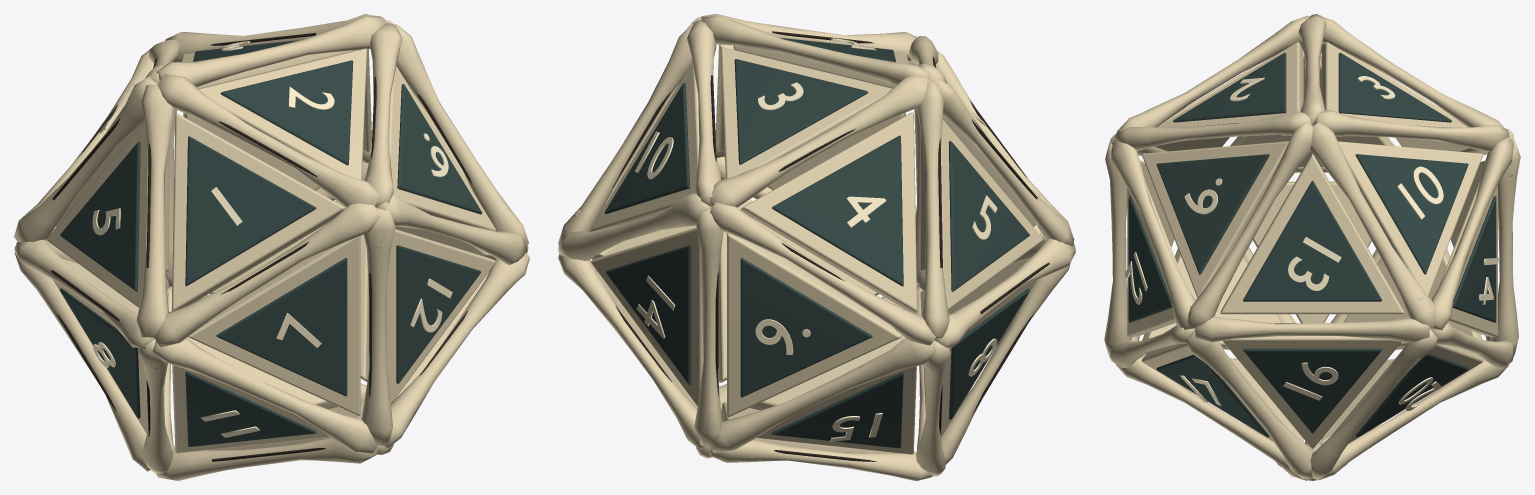
3 renders of one model, left to right at view 1: azimuth 30°, elevation 25°; view 2: azimuth 150°, elevation 25°; view 3: azimuth 270°, elevation 25°, orthographic. The views are drawn at different scales.
Parts seen in each view (by area): view 1: Monster Dungeon d20 canonical sculpture; view 2: Monster Dungeon d20 canonical sculpture; view 3: Monster Dungeon d20 canonical sculpture.
Boxes of the visible parts, x1,y1,x2,y2 form: Monster Dungeon d20 canonical sculpture: [14, 14, 529, 480]; Monster Dungeon d20 canonical sculpture: [558, 14, 1075, 480]; Monster Dungeon d20 canonical sculpture: [1104, 14, 1520, 480].
Bounding box in the file's own units: 1.83 × 1.83 × 1.83.
